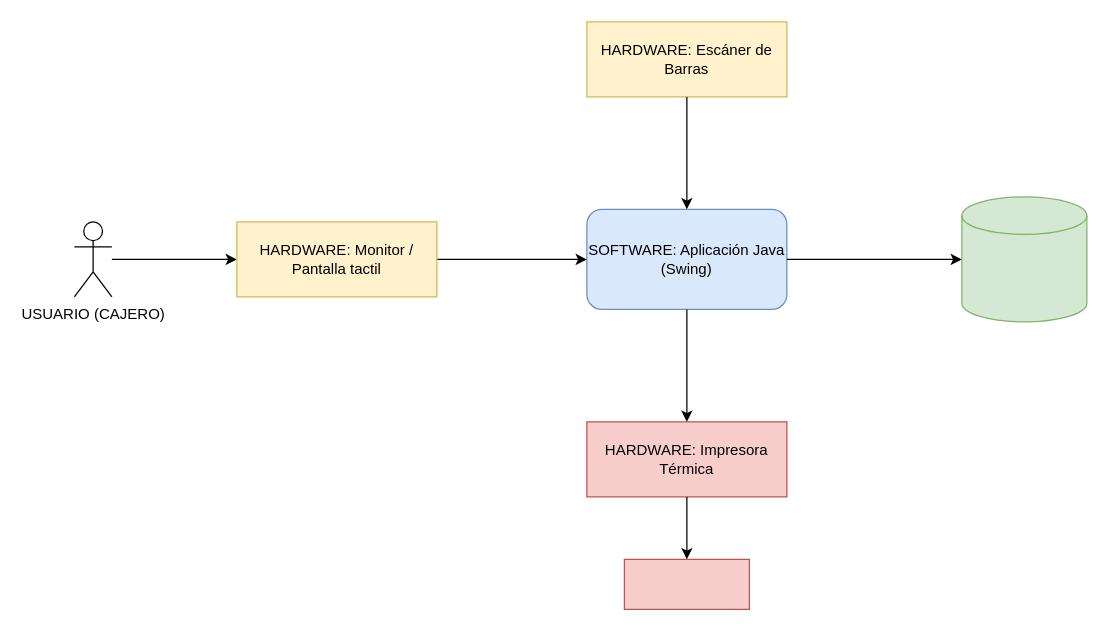
The diagram is 1109 pixels wide and 631 high, and some of its shapes have lost their labels. Here are the shapes that lost their labels. From the top down, the centre of each, then its label:
At pixel 1024 259: "BASE DE DATOS: MySQL".
At pixel 686 583: "Cajón de Dinero".
